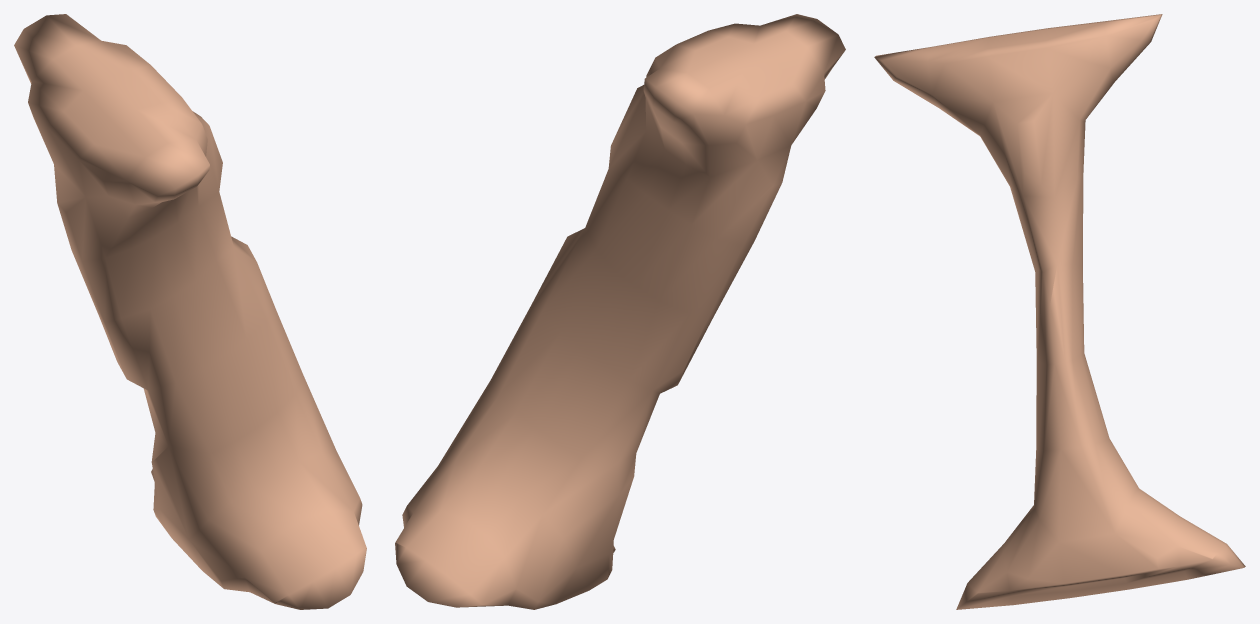
The model's file is blood_connector.glb.
3 renders of one model, left to right at view 1: azimuth 30°, elevation 25°; view 2: azimuth 150°, elevation 25°; view 3: azimuth 270°, elevation 25°, orthographic. The views are drawn at different scales.
Parts seen in each view (by area): view 1: Cylinder.005; view 2: Cylinder.005; view 3: Cylinder.005.
Boxes of the visible parts, x1=… form: Cylinder.005: x1=14, y1=14, x2=366, y2=609; Cylinder.005: x1=395, y1=14, x2=845, y2=609; Cylinder.005: x1=874, y1=14, x2=1245, y2=609.
Bounding box in the file's own units: 0.3735 × 0.6491 × 0.4231.
